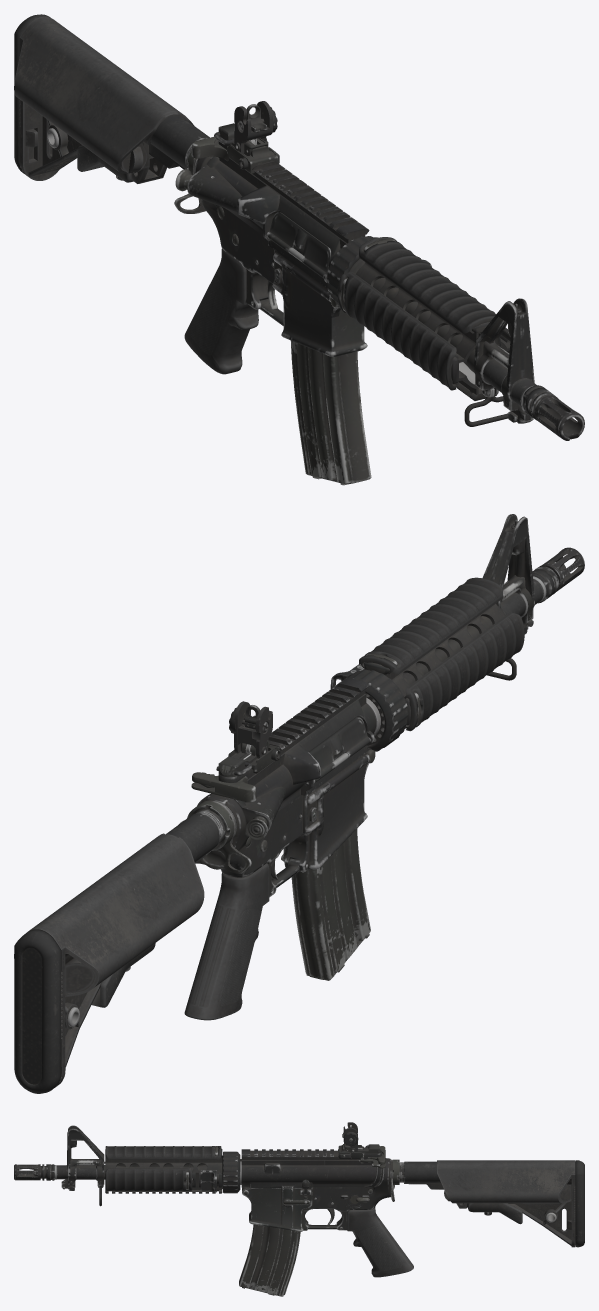
The picture shows the model from 3 angles, top to bottom: view 1: azimuth 30°, elevation 25°; view 2: azimuth 150°, elevation 25°; view 3: azimuth 270°, elevation 25°; orthographic projection. The views are drawn at different scales.
Parts seen in each view (by area): view 1: M4A4_CS2; view 2: M4A4_CS2; view 3: M4A4_CS2.
Part boxes in pixels (x1,y1,x2,y2): M4A4_CS2: (14,14,584,485); M4A4_CS2: (14,514,584,1093); M4A4_CS2: (14,1122,584,1296).
Bounding box in the file's own units: 0.0913 × 0.292 × 0.8964.
1 material, 1 textured.
